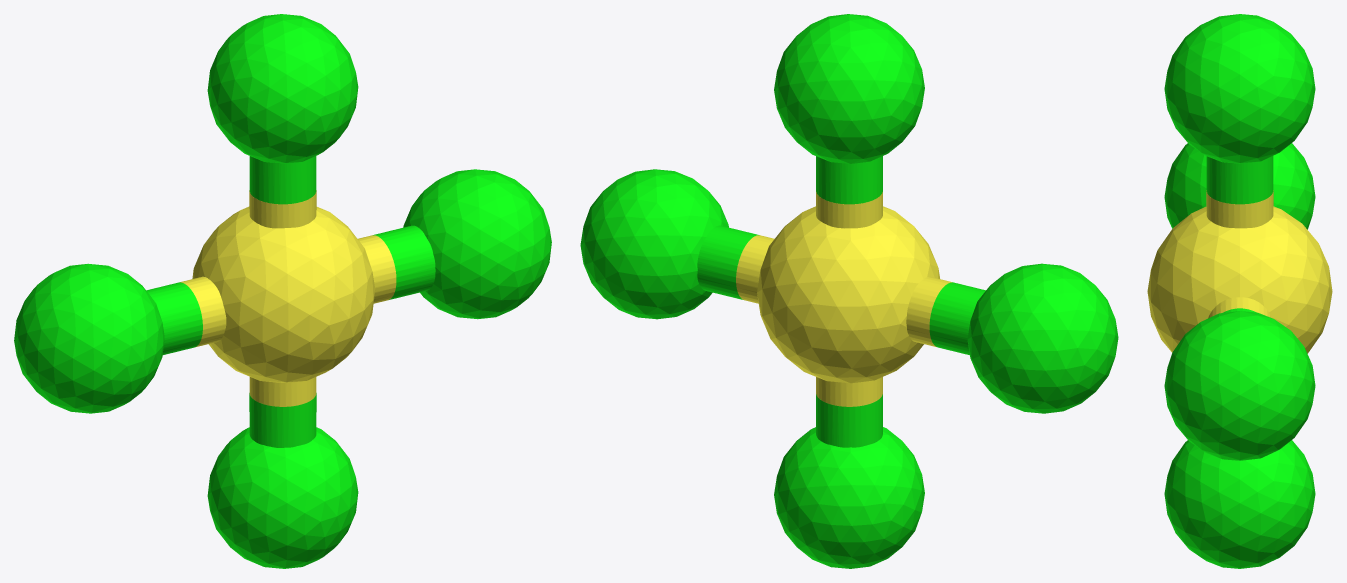
3 views of the same model, side by side, from view 1: azimuth 30°, elevation 25°; view 2: azimuth 150°, elevation 25°; view 3: azimuth 270°, elevation 25° (orthographic).
Visible parts, largest first — view 1: Shape_IndexedFaceSet.001, Shape_IndexedFaceSet, Shape_IndexedFaceSet.002, Shape_IndexedFaceSet.003, Shape_IndexedFaceSet.004, Shape_IndexedFaceSet.010, Shape_IndexedFaceSet.013, Shape_IndexedFaceSet.007, Shape_IndexedFaceSet.015, Shape_IndexedFaceSet.012, Shape_IndexedFaceSet.017, Shape_IndexedFaceSet.009 (+1 smaller); view 2: Shape_IndexedFaceSet.001, Shape_IndexedFaceSet, Shape_IndexedFaceSet.002, Shape_IndexedFaceSet.003, Shape_IndexedFaceSet.004, Shape_IndexedFaceSet.010, Shape_IndexedFaceSet.007, Shape_IndexedFaceSet.013, Shape_IndexedFaceSet.015, Shape_IndexedFaceSet.012, Shape_IndexedFaceSet.017, Shape_IndexedFaceSet.009 (+1 smaller); view 3: Shape_IndexedFaceSet.004, Shape_IndexedFaceSet.002, Shape_IndexedFaceSet.001, Shape_IndexedFaceSet.003, Shape_IndexedFaceSet, Shape_IndexedFaceSet.013, Shape_IndexedFaceSet.012, Shape_IndexedFaceSet.005.
Part boxes in pixels (left/top/right/bottom): Shape_IndexedFaceSet.001: left=192, top=206, right=375, bottom=382; Shape_IndexedFaceSet: left=14, top=263, right=164, bottom=413; Shape_IndexedFaceSet.002: left=207, top=14, right=358, bottom=163; Shape_IndexedFaceSet.003: left=207, top=427, right=358, bottom=568; Shape_IndexedFaceSet.004: left=403, top=169, right=551, bottom=319; Shape_IndexedFaceSet.010: left=249, top=393, right=316, bottom=447; Shape_IndexedFaceSet.013: left=249, top=156, right=316, bottom=204; Shape_IndexedFaceSet.007: left=373, top=225, right=435, bottom=299; Shape_IndexedFaceSet.015: left=146, top=282, right=202, bottom=354; Shape_IndexedFaceSet.012: left=249, top=190, right=316, bottom=228; Shape_IndexedFaceSet.017: left=180, top=276, right=226, bottom=347; Shape_IndexedFaceSet.009: left=249, top=377, right=316, bottom=406; Shape_IndexedFaceSet.001: left=757, top=206, right=939, bottom=383; Shape_IndexedFaceSet: left=967, top=263, right=1118, bottom=413; Shape_IndexedFaceSet.002: left=774, top=14, right=924, bottom=163; Shape_IndexedFaceSet.003: left=774, top=427, right=924, bottom=568; Shape_IndexedFaceSet.004: left=580, top=169, right=728, bottom=319; Shape_IndexedFaceSet.010: left=816, top=394, right=882, bottom=447; Shape_IndexedFaceSet.007: left=697, top=225, right=759, bottom=299; Shape_IndexedFaceSet.013: left=816, top=156, right=882, bottom=204; Shape_IndexedFaceSet.015: left=929, top=282, right=985, bottom=355; Shape_IndexedFaceSet.012: left=816, top=192, right=882, bottom=228; Shape_IndexedFaceSet.017: left=906, top=276, right=951, bottom=346; Shape_IndexedFaceSet.009: left=816, top=377, right=882, bottom=406; Shape_IndexedFaceSet.004: left=1164, top=311, right=1315, bottom=460; Shape_IndexedFaceSet.002: left=1164, top=14, right=1315, bottom=163; Shape_IndexedFaceSet.001: left=1147, top=206, right=1332, bottom=353; Shape_IndexedFaceSet.003: left=1164, top=440, right=1315, bottom=568; Shape_IndexedFaceSet: left=1164, top=143, right=1315, bottom=229; Shape_IndexedFaceSet.013: left=1206, top=156, right=1273, bottom=204; Shape_IndexedFaceSet.012: left=1206, top=190, right=1273, bottom=228; Shape_IndexedFaceSet.005: left=1208, top=297, right=1271, bottom=318.
Bounding box in the file's own units: 26.76 × 26.76 × 8.28.
